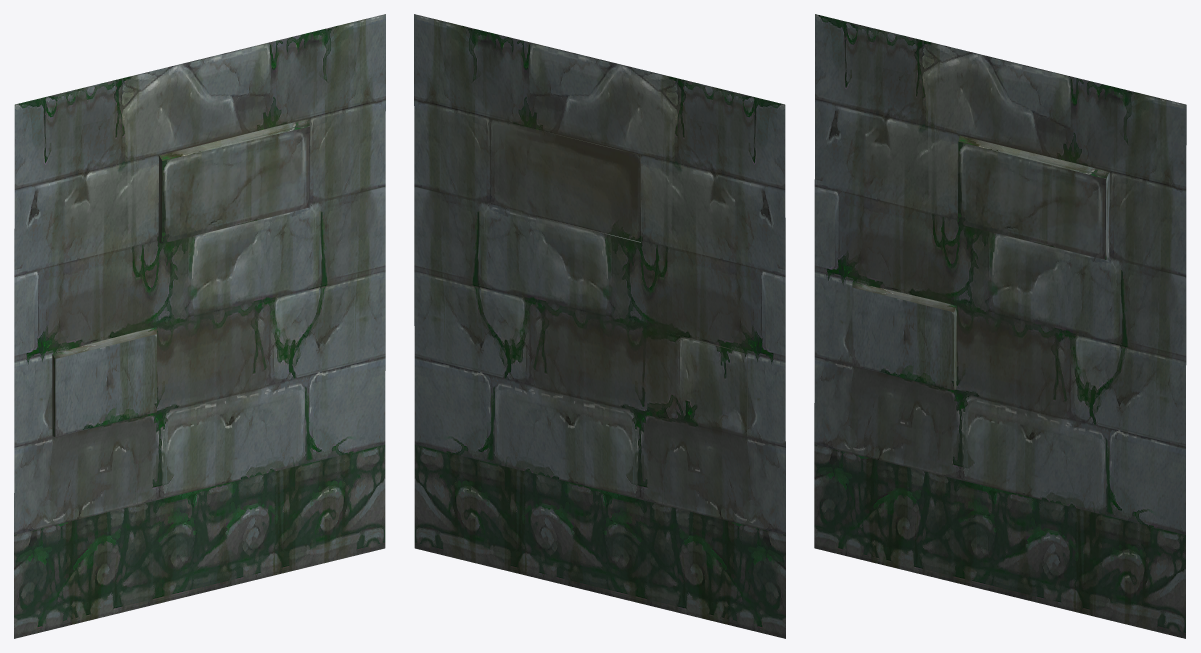
The model's file is stemple_wall_straight_10.fbx.
3 renders of one model, left to right at view 1: azimuth 30°, elevation 25°; view 2: azimuth 150°, elevation 25°; view 3: azimuth 330°, elevation 25°, orthographic.
Parts seen in each view (by area): view 1: obj2.010; view 2: obj2.010; view 3: obj2.010.
Boxes of the visible parts, <box> form: obj2.010: <box>14,14,385,638</box>; obj2.010: <box>414,14,785,638</box>; obj2.010: <box>814,14,1186,638</box>.
Bounding box in the file's own units: 4.01 × 5.5 × 0.055.
